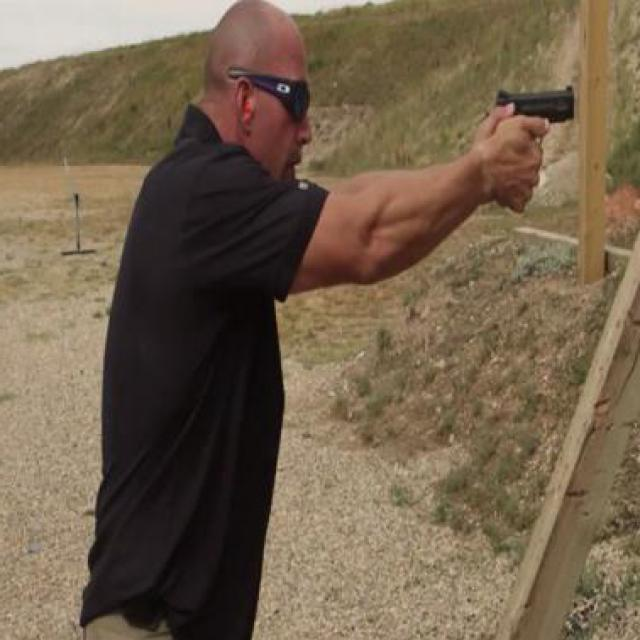Gun: (492, 84, 580, 208)
